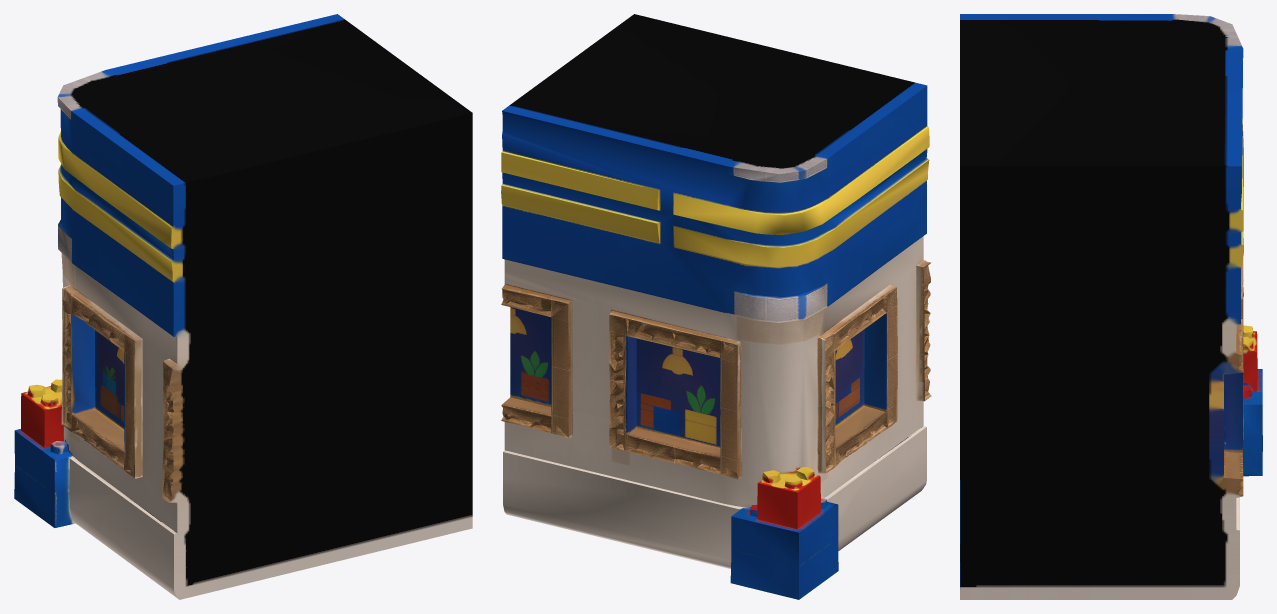
Rendered from 3-ground-floor-back-left.fbx.
3 renders of one model, left to right at view 1: azimuth 30°, elevation 25°; view 2: azimuth 150°, elevation 25°; view 3: azimuth 270°, elevation 25°, orthographic. The views are drawn at different scales.
Parts seen in each view (by area): view 1: ground-floor-back-left; view 2: ground-floor-back-left; view 3: ground-floor-back-left.
Boxes of the visible parts, box(x1,y1,x2,y2) form: ground-floor-back-left: box(14, 14, 472, 599); ground-floor-back-left: box(501, 14, 931, 599); ground-floor-back-left: box(960, 14, 1262, 599).
Bounding box in the file's own units: 3942 × 4997 × 3163.
Materials: 1 (1 with a texture image).
